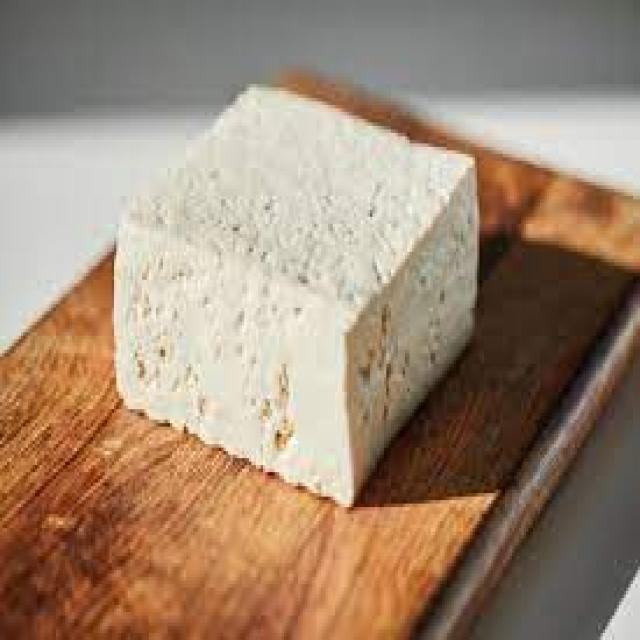tofu: (111, 75, 487, 521)
